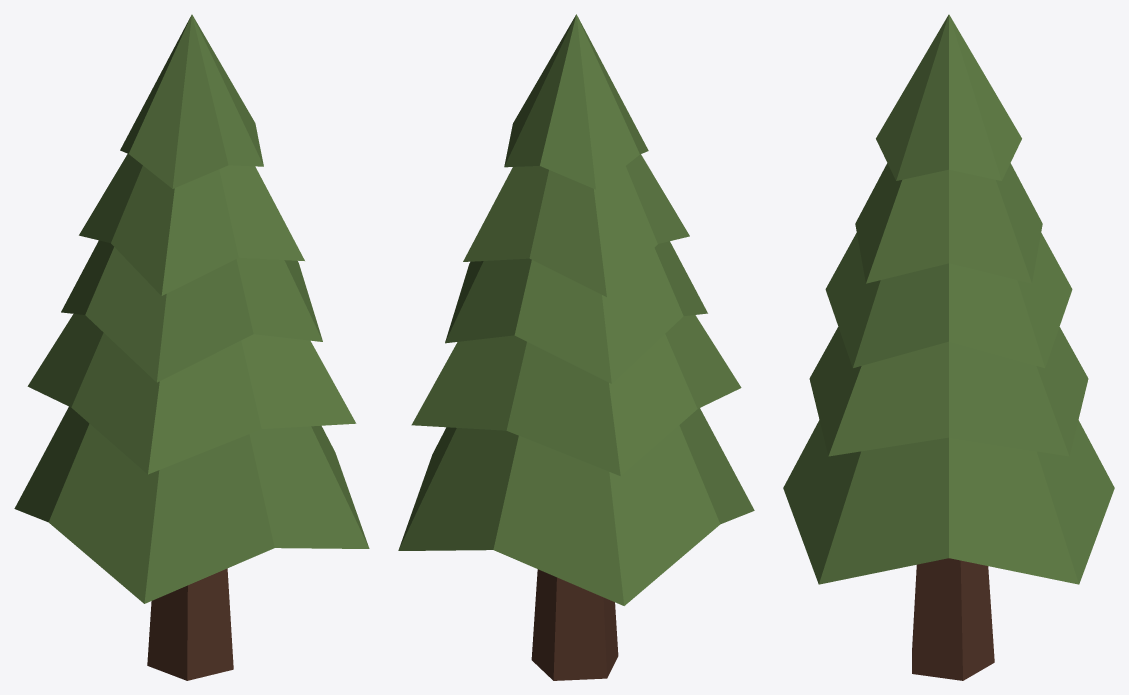
Rendered from PlantH-2.fbx.
3 views of the same model, side by side, from view 1: azimuth 30°, elevation 25°; view 2: azimuth 150°, elevation 25°; view 3: azimuth 270°, elevation 25° (orthographic).
Visible parts, largest first — view 1: PlantH-2; view 2: PlantH-2; view 3: PlantH-2.
Part boxes in pixels (bbox=[...]): PlantH-2: bbox=[14, 14, 369, 680]; PlantH-2: bbox=[398, 14, 754, 680]; PlantH-2: bbox=[783, 14, 1114, 680].
Bounding box in the file's own units: 184 × 397 × 184.
